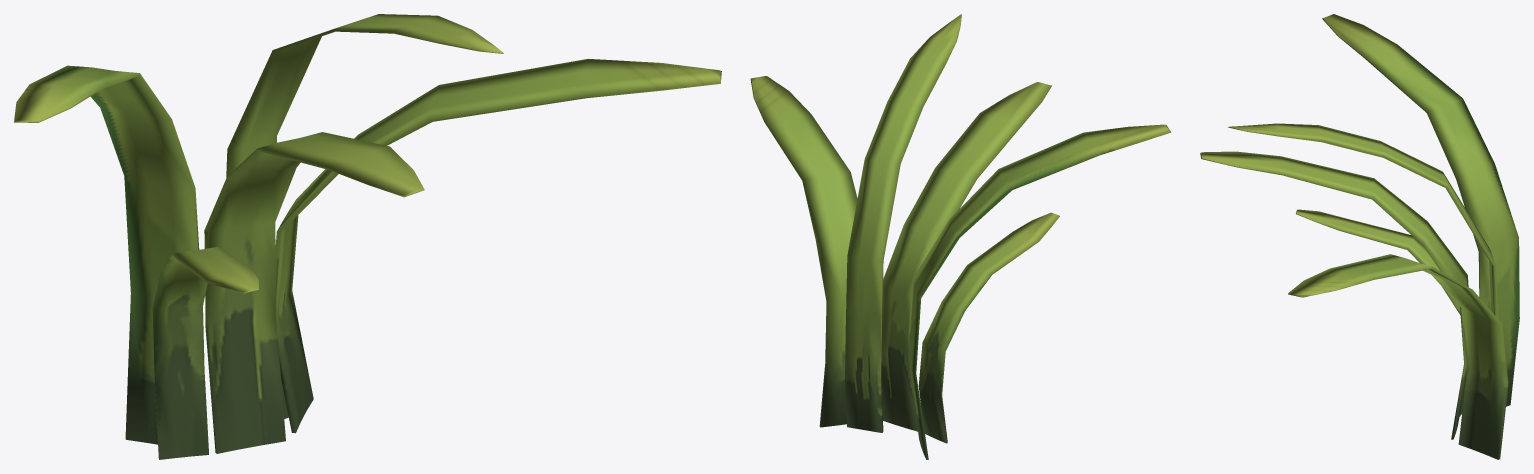
Rendered from grass_3(M).fbx.
3 views of the same model, side by side, from view 1: azimuth 30°, elevation 25°; view 2: azimuth 150°, elevation 25°; view 3: azimuth 270°, elevation 25° (orthographic). The views are drawn at different scales.
Parts seen in each view (by area): view 1: main_2.013; view 2: main_2.013; view 3: main_2.013.
Boxes of the visible parts, x1,y1,x2,y2 form: main_2.013: [14, 14, 721, 459]; main_2.013: [750, 14, 1171, 459]; main_2.013: [1200, 14, 1519, 459].
Size of the model in its own units: 31.32 by 22.04 by 19.37.
